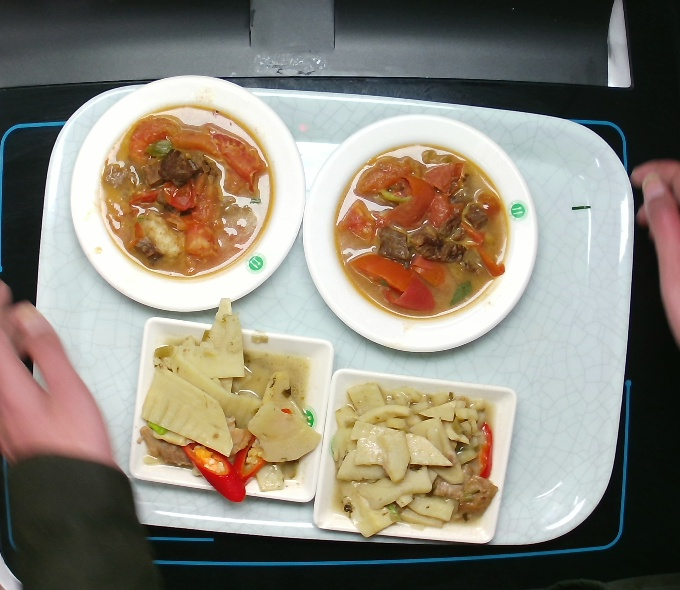wcq-DongSun: (123, 300, 325, 515), (333, 383, 507, 537)
wcq-FanQiwNiuRou: (90, 103, 278, 278), (331, 144, 513, 322)
